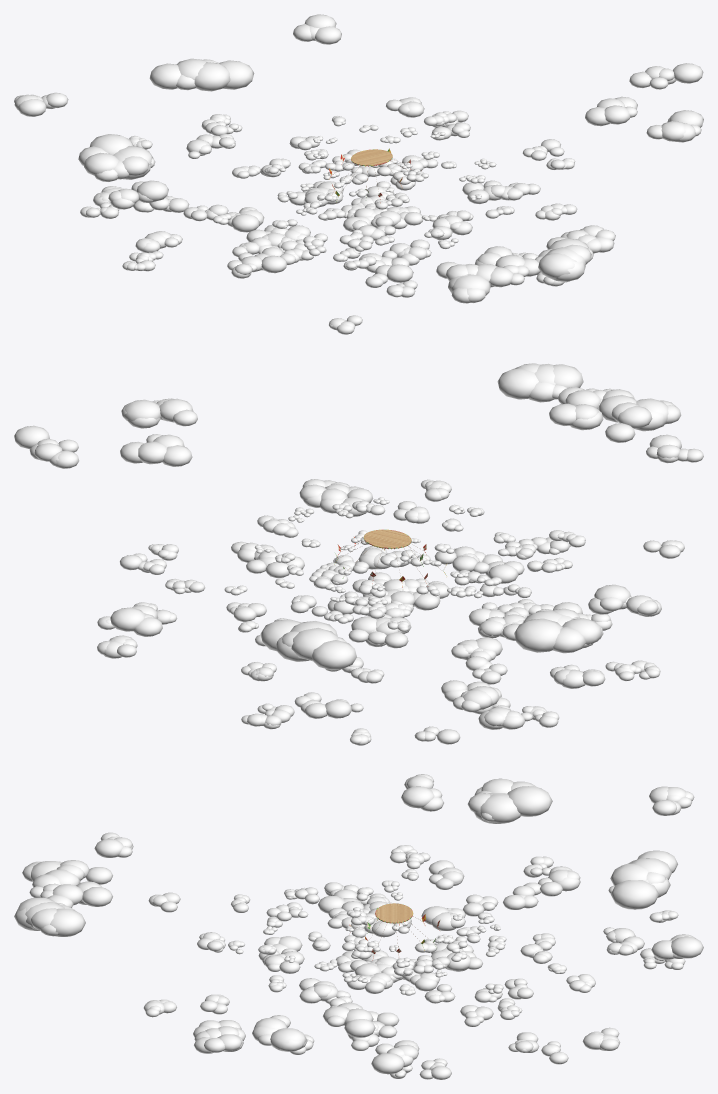
The model's file is kitestead.glb.
The picture shows the model from 3 angles, top to bottom: view 1: azimuth 30°, elevation 25°; view 2: azimuth 150°, elevation 25°; view 3: azimuth 270°, elevation 25°; orthographic projection. The views are drawn at different scales.
Visible parts, largest first — view 1: Clouds_Horizon_1, Clouds_Horizon_2, Clouds_Sea_7, Clouds_Sea_5, Clouds_Sea_8, Clouds_Sea_3, Clouds_Sea_6, Clouds_Sea_2, Clouds_Sea_4, Clouds_Sea_1, Clouds_Mid_4, Clouds_Mid_1 (+5 smaller); view 2: Clouds_Horizon_1, Clouds_Horizon_2, Clouds_Sea_7, Clouds_Sea_6, Clouds_Sea_8, Clouds_Sea_3, Clouds_Sea_2, Clouds_Sea_4, Clouds_Sea_5, Clouds_Sea_1, Clouds_Mid_4, Clouds_Mid_3 (+6 smaller); view 3: Clouds_Horizon_1, Clouds_Horizon_2, Clouds_Sea_7, Clouds_Sea_6, Clouds_Sea_5, Clouds_Sea_2, Clouds_Sea_8, Clouds_Sea_3, Clouds_Sea_1, Clouds_Sea_4, Clouds_Mid_3, Clouds_Mid_4 (+6 smaller).
Boxes of the visible parts, left/top/right/bottom form: Clouds_Horizon_1: left=14, top=92, right=637, bottom=303; Clouds_Horizon_2: left=95, top=14, right=703, bottom=287; Clouds_Sea_7: left=93, top=155, right=615, bottom=246; Clouds_Sea_5: left=129, top=135, right=614, bottom=278; Clouds_Sea_8: left=135, top=114, right=564, bottom=297; Clouds_Sea_3: left=122, top=110, right=540, bottom=334; Clouds_Sea_6: left=80, top=133, right=537, bottom=272; Clouds_Sea_2: left=129, top=151, right=569, bottom=286; Clouds_Sea_4: left=277, top=122, right=577, bottom=265; Clouds_Sea_1: left=205, top=97, right=424, bottom=253; Clouds_Mid_4: left=213, top=127, right=417, bottom=270; Clouds_Mid_1: left=303, top=114, right=449, bottom=256; Clouds_Horizon_1: left=120, top=363, right=681, bottom=712; Clouds_Horizon_2: left=14, top=398, right=703, bottom=670; Clouds_Sea_7: left=148, top=479, right=525, bottom=729; Clouds_Sea_6: left=294, top=501, right=559, bottom=727; Clouds_Sea_8: left=119, top=537, right=605, bottom=729; Clouds_Sea_3: left=97, top=540, right=684, bottom=684; Clouds_Sea_2: left=274, top=479, right=636, bottom=712; Clouds_Sea_4: left=133, top=515, right=529, bottom=744; Clouds_Sea_5: left=241, top=480, right=612, bottom=745; Clouds_Sea_1: left=97, top=579, right=528, bottom=722; Clouds_Mid_4: left=224, top=530, right=585, bottom=606; Clouds_Mid_3: left=165, top=500, right=537, bottom=632; Clouds_Horizon_1: left=14, top=774, right=694, bottom=1037; Clouds_Horizon_2: left=94, top=787, right=703, bottom=1074; Clouds_Sea_7: left=204, top=866, right=580, bottom=1078; Clouds_Sea_6: left=200, top=856, right=644, bottom=1014; Clouds_Sea_5: left=193, top=882, right=678, bottom=1053; Clouds_Sea_2: left=143, top=852, right=616, bottom=1017; Clouds_Sea_8: left=197, top=860, right=685, bottom=1079; Clouds_Sea_3: left=148, top=845, right=568, bottom=1064; Clouds_Sea_1: left=354, top=902, right=665, bottom=1050; Clouds_Sea_4: left=262, top=885, right=614, bottom=1054; Clouds_Mid_3: left=266, top=887, right=566, bottom=1019; Clouds_Mid_4: left=231, top=869, right=503, bottom=993.
Bounding box in the file's own units: 3512 × 500 × 3467.
Materials: 29 (29 with a texture image).
